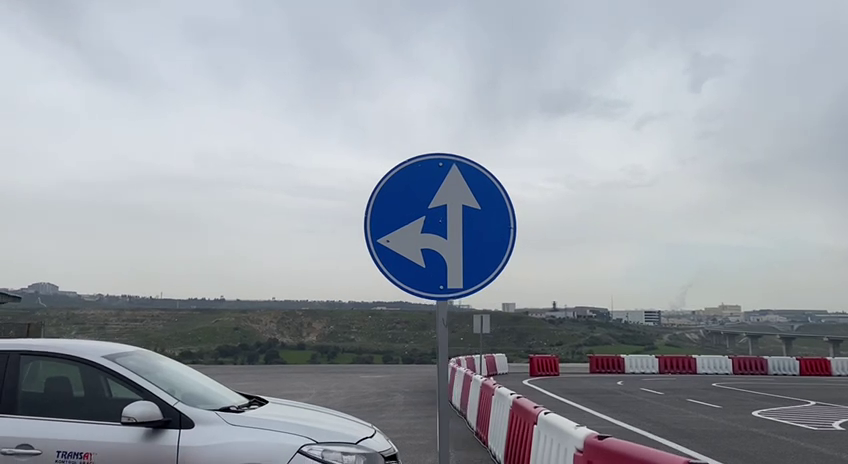forwardAndLeft: (361, 151, 519, 303)
